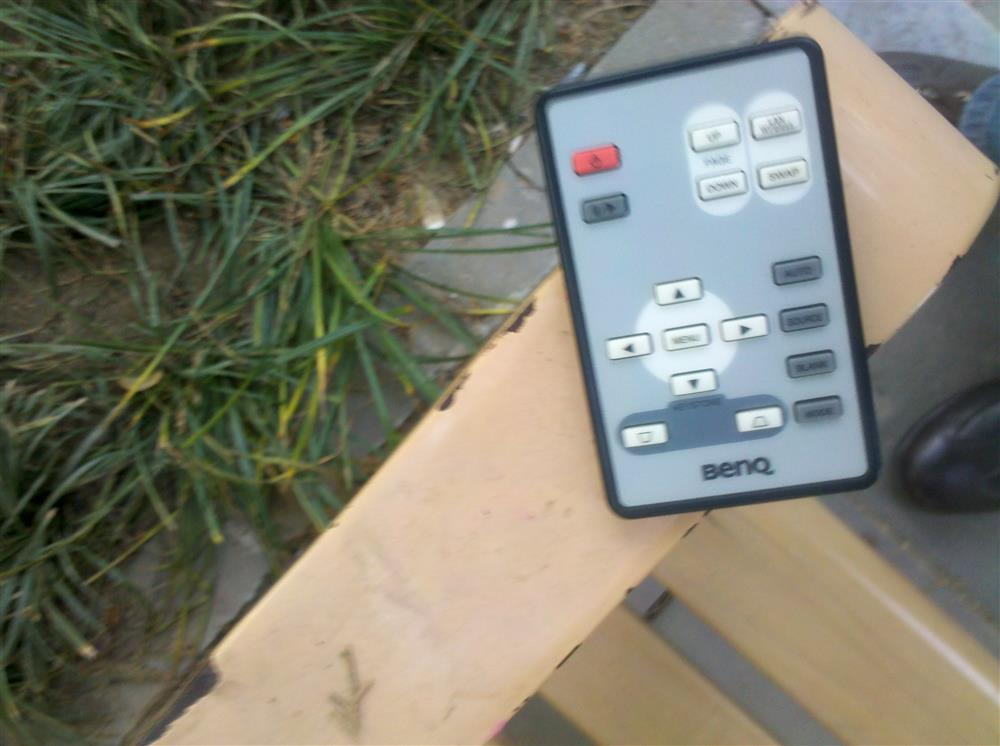BenQ_remote: (536, 40, 871, 515)
